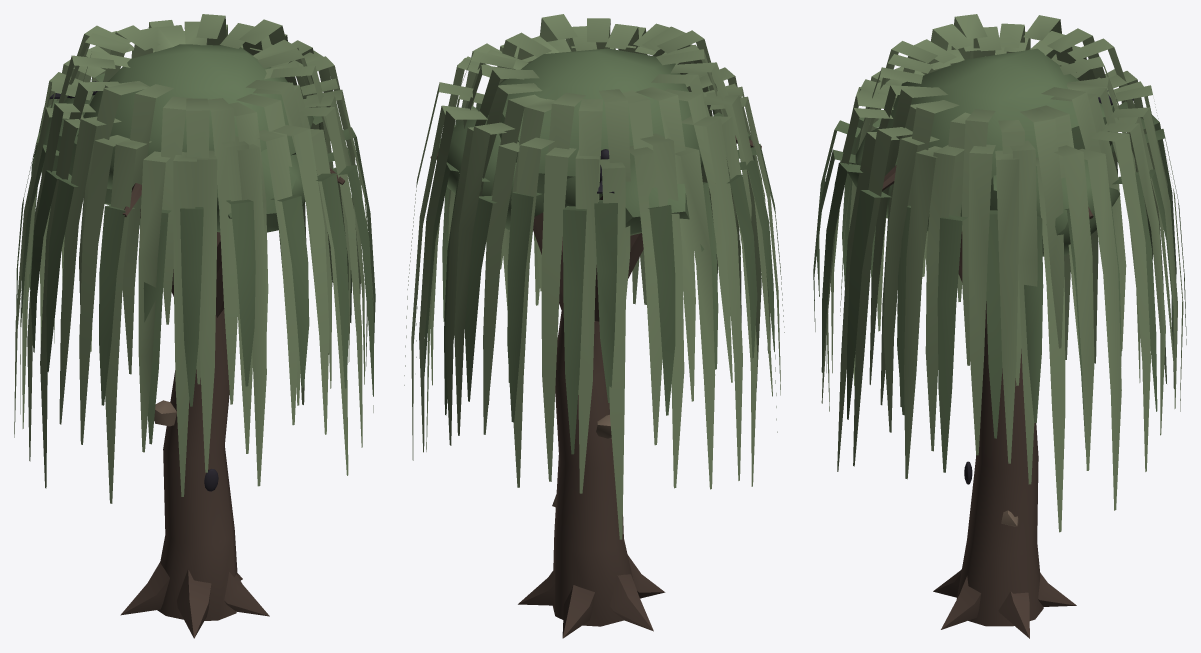
The model's file is tree_willow.glb.
3 views of the same model, side by side, from view 1: azimuth 30°, elevation 25°; view 2: azimuth 150°, elevation 25°; view 3: azimuth 270°, elevation 25° (orthographic).
Parts seen in each view (by area): view 1: sway, tree_willow; view 2: sway, tree_willow; view 3: sway, tree_willow.
Boxes of the visible parts, <box> form: sway: <box>14,14,375,503</box>; tree_willow: <box>49,81,344,638</box>; sway: <box>404,14,784,539</box>; tree_willow: <box>430,135,761,638</box>; sway: <box>813,14,1186,532</box>; tree_willow: <box>882,90,1133,638</box>.
Bounding box in the file's own units: 2.82 × 4.65 × 2.87.
